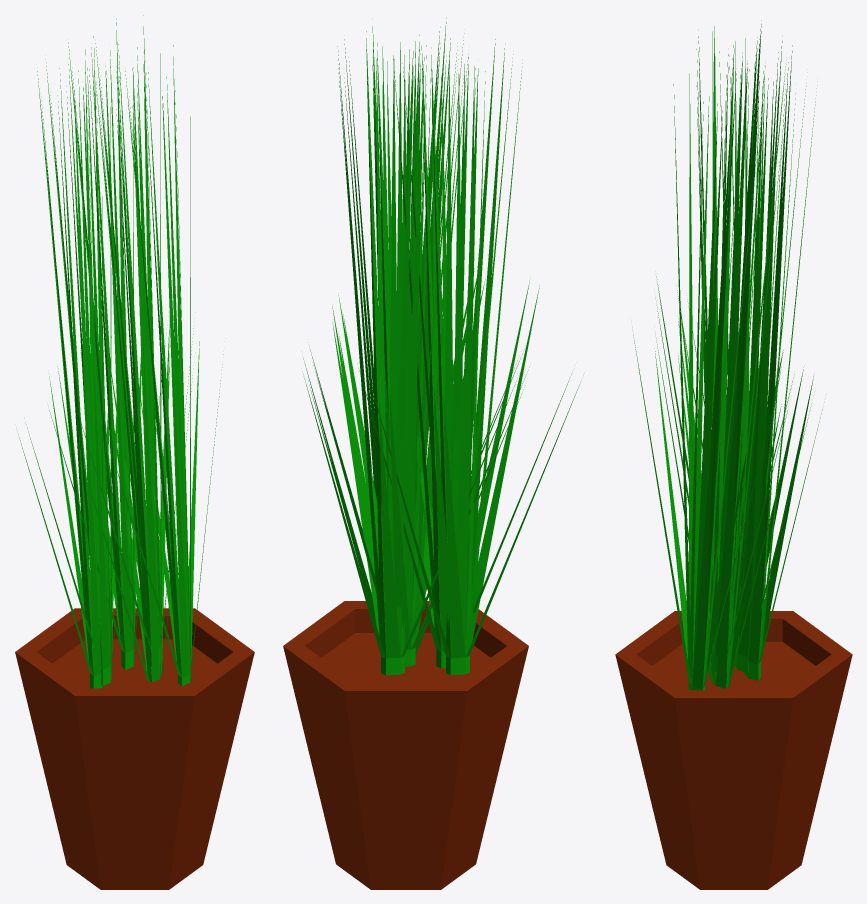
The model's file is LEAF2.fbx.
3 views of the same model, side by side, from view 1: azimuth 30°, elevation 25°; view 2: azimuth 150°, elevation 25°; view 3: azimuth 270°, elevation 25° (orthographic). The views are drawn at different scales.
Parts seen in each view (by area): view 1: Cylinder, Plane.013, Plane.009, Plane.003, Plane.007, Plane.005, Plane.002, Plane.011; view 2: Cylinder, Plane.009, Plane.011, Plane.007, Plane.005, Plane.002, Plane.003, Plane.013; view 3: Cylinder, Plane.013, Plane.003, Plane.011, Plane.002, Plane.005, Plane.007, Plane.009.
Part boxes in pixels (x1,y1,x2,y2): Cylinder: (15, 608, 254, 889); Plane.013: (106, 45, 223, 677); Plane.009: (18, 49, 131, 676); Plane.003: (76, 15, 193, 649); Plane.007: (26, 36, 141, 669); Plane.005: (49, 22, 165, 652); Plane.002: (77, 52, 192, 682); Plane.011: (68, 19, 166, 651); Cylinder: (283, 601, 528, 889); Plane.009: (368, 44, 580, 658); Plane.011: (303, 43, 516, 658); Plane.007: (358, 39, 571, 651); Plane.005: (313, 38, 529, 649); Plane.002: (309, 56, 525, 654); Plane.003: (310, 17, 524, 589); Plane.013: (303, 27, 517, 604); Cylinder: (615, 611, 852, 889); Plane.013: (633, 68, 767, 688); Plane.003: (656, 31, 787, 655); Plane.011: (687, 38, 822, 664); Plane.002: (656, 76, 788, 688); Plane.005: (677, 41, 811, 656); Plane.007: (656, 20, 792, 491); Plane.009: (657, 24, 790, 480).
Size of the model in its own units: 504 by 1667 by 438.
